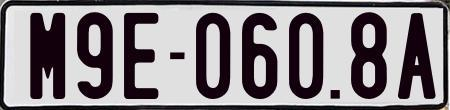0: (289, 12, 325, 98), (194, 12, 228, 100)
6: (241, 12, 282, 98)
8: (348, 9, 384, 98)
9: (75, 11, 114, 99)
A: (397, 10, 436, 101)
E: (124, 10, 162, 101)
M: (29, 11, 65, 101)
